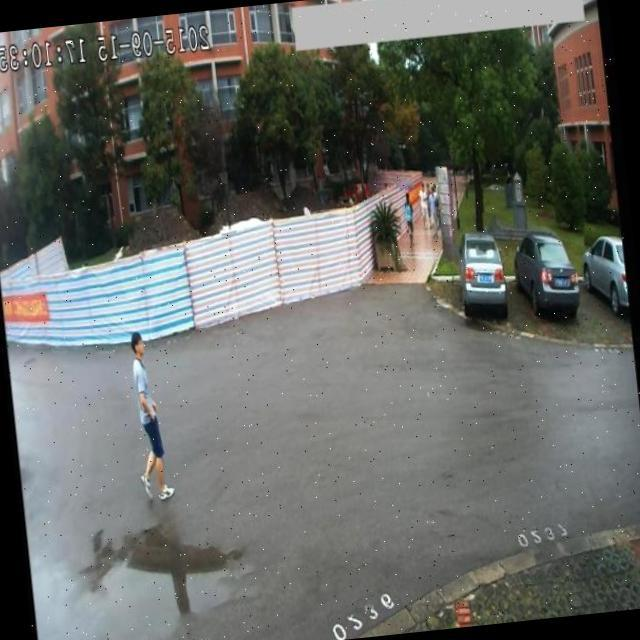person: (123, 328, 176, 514), (400, 190, 417, 248), (425, 185, 440, 238), (416, 182, 428, 234)
